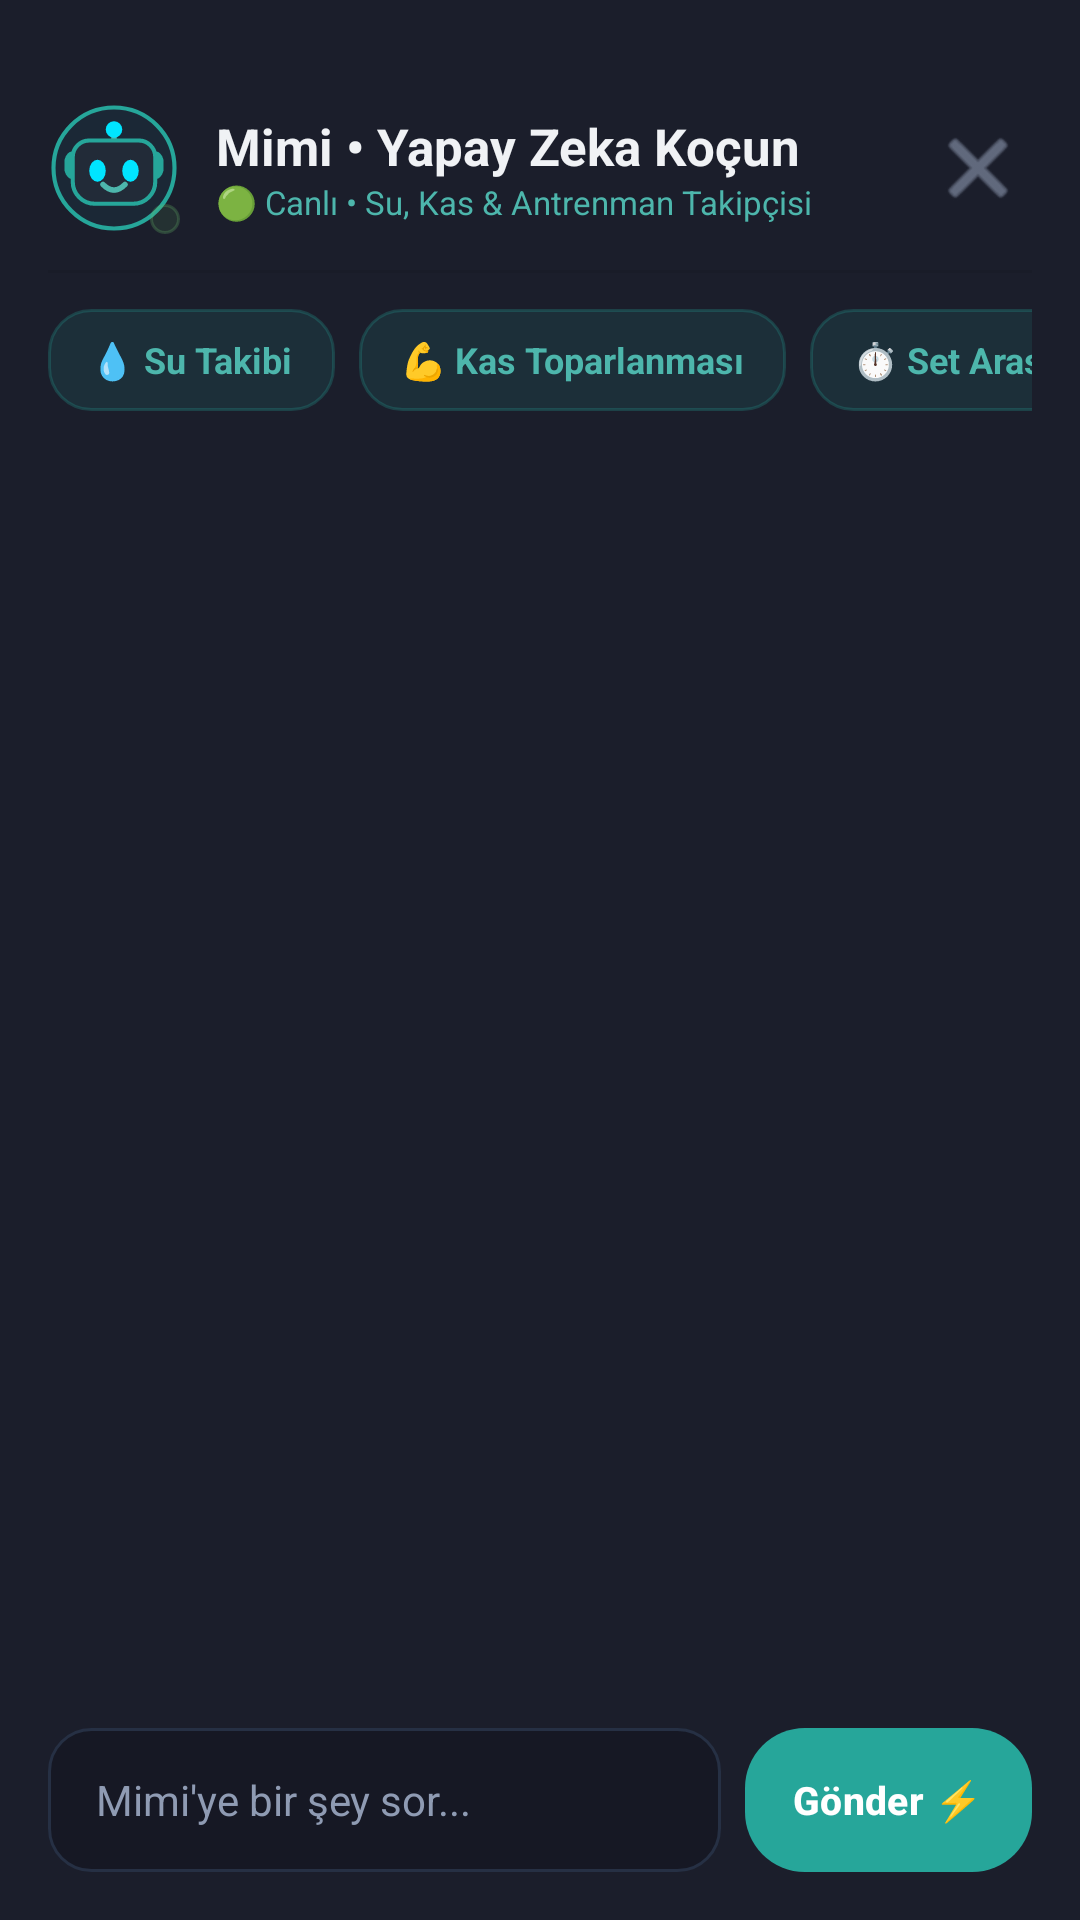

Icon click points for this 1080w x 1920h phone screenshot, format point (x, y):
Kapat: point (978, 168)
